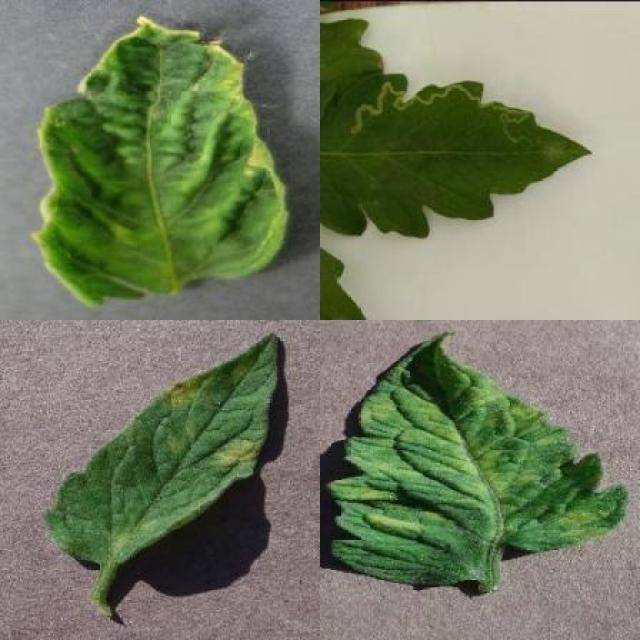Leaf Miner: (320, 74, 594, 239)
Leaf Mold: (326, 331, 628, 588), (46, 332, 280, 568)
Yellow Leaf Curl Virus: (34, 15, 290, 308)
